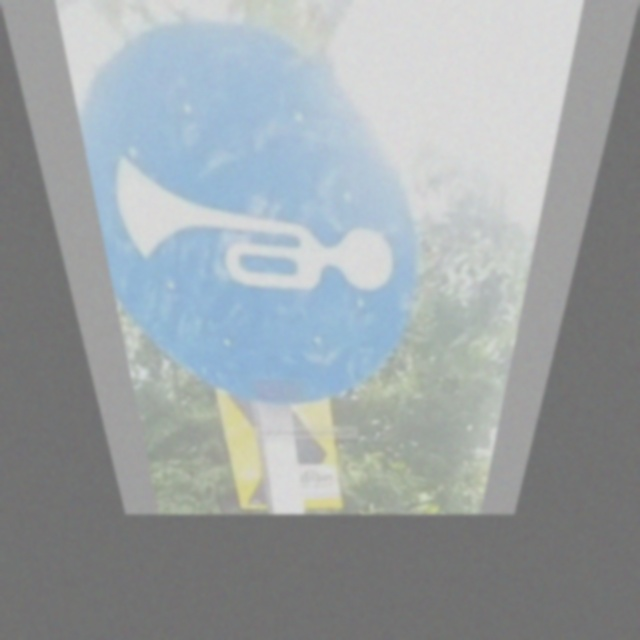Compulsory_Sound_Horn: (82, 74, 413, 354)
